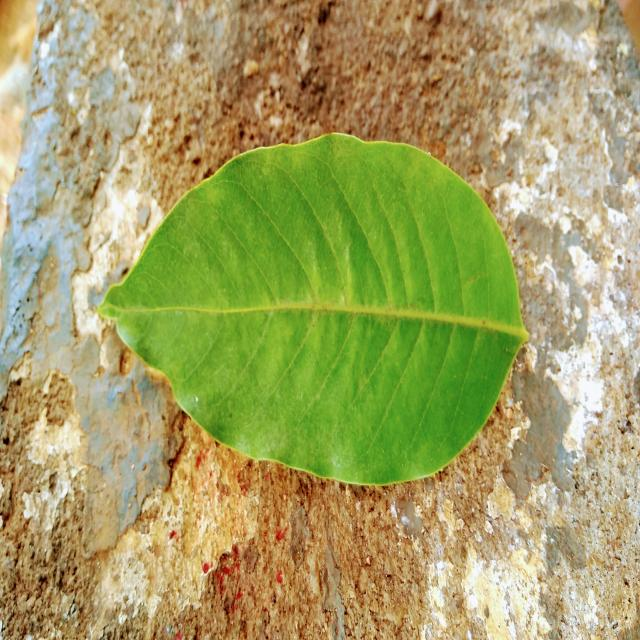sampige: (100, 133, 525, 484)
